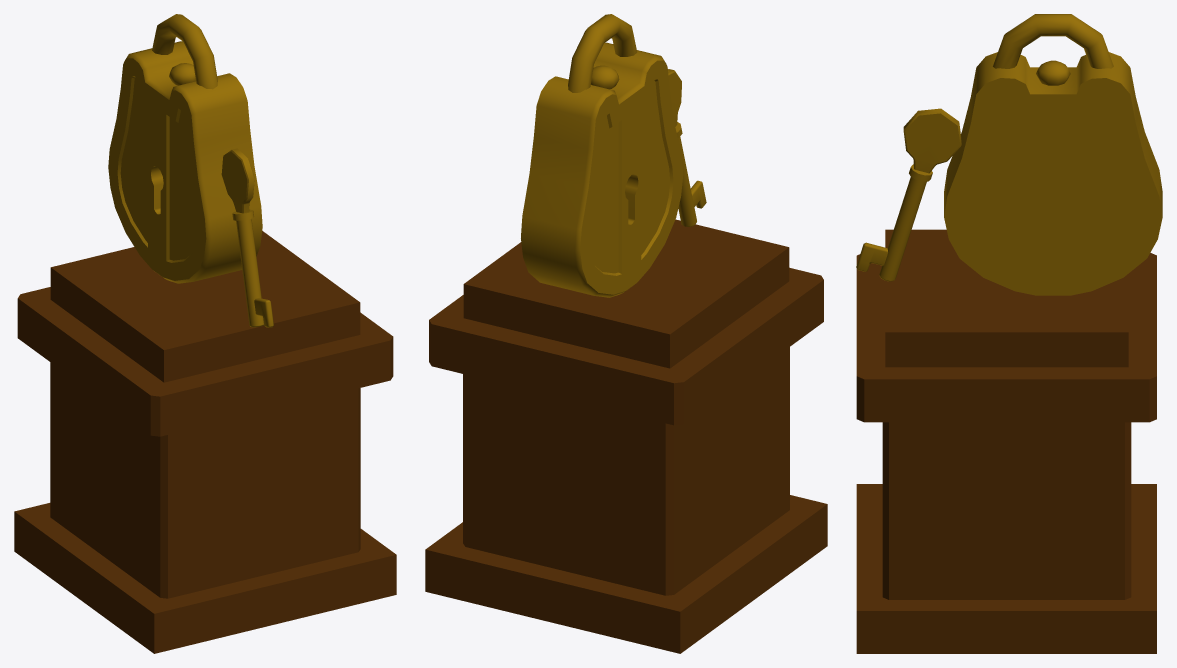
The model's file is Weight_Secrecy_final_Vanessa_01.fbx.
The picture shows the model from 3 angles, left to right: view 1: azimuth 30°, elevation 25°; view 2: azimuth 150°, elevation 25°; view 3: azimuth 270°, elevation 25°; orthographic projection. The views are drawn at different scales.
Visible parts, largest first — view 1: mesh_Secrecy_Base_Rest, mesh_Secrecy_Base_Name, pCube38, pTorus6, pCylinder36, pCylinder39; view 2: mesh_Secrecy_Base_Rest, mesh_Secrecy_Base_Name, pCube38, pTorus6, pCylinder36; view 3: mesh_Secrecy_Base_Rest, mesh_Secrecy_Base_Name, pCube38, pTorus6, pCylinder39, pCylinder36, pCylinder34, pCube39.
Boxes of the visible parts, x1,y1,x2,y2 form: mesh_Secrecy_Base_Rest: (14, 231, 396, 653); mesh_Secrecy_Base_Name: (50, 362, 360, 598); pCube38: (108, 41, 262, 283); pTorus6: (152, 14, 217, 89); pCylinder36: (236, 219, 263, 327); pCylinder39: (221, 148, 254, 213); mesh_Secrecy_Base_Rest: (425, 219, 827, 653); mesh_Secrecy_Base_Name: (463, 347, 789, 595); pCube38: (521, 42, 683, 297); pTorus6: (568, 14, 637, 92); pCylinder36: (678, 137, 696, 226); mesh_Secrecy_Base_Rest: (856, 229, 1156, 653); mesh_Secrecy_Base_Name: (882, 422, 1131, 599); pCube38: (944, 52, 1162, 295); pTorus6: (993, 14, 1113, 68); pCylinder39: (903, 108, 961, 173); pCylinder36: (879, 177, 926, 281); pCylinder34: (1036, 60, 1070, 85); pCube39: (856, 242, 887, 271).
Bounding box in the file's own units: 6.52 × 13.81 × 6.65.
